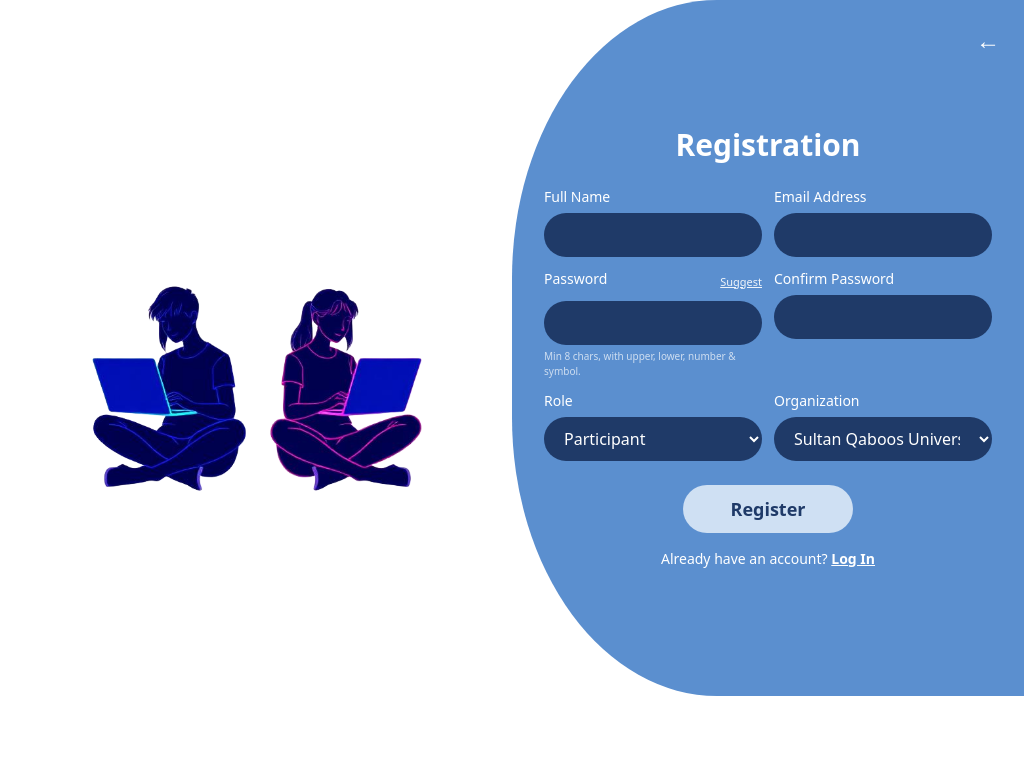
Test: Register page › rejects weak password (no uppercase)
Type "Khadija" into the field below "Full Name".
click(653, 235); type("Khadija")  # box [544, 213, 762, 257]
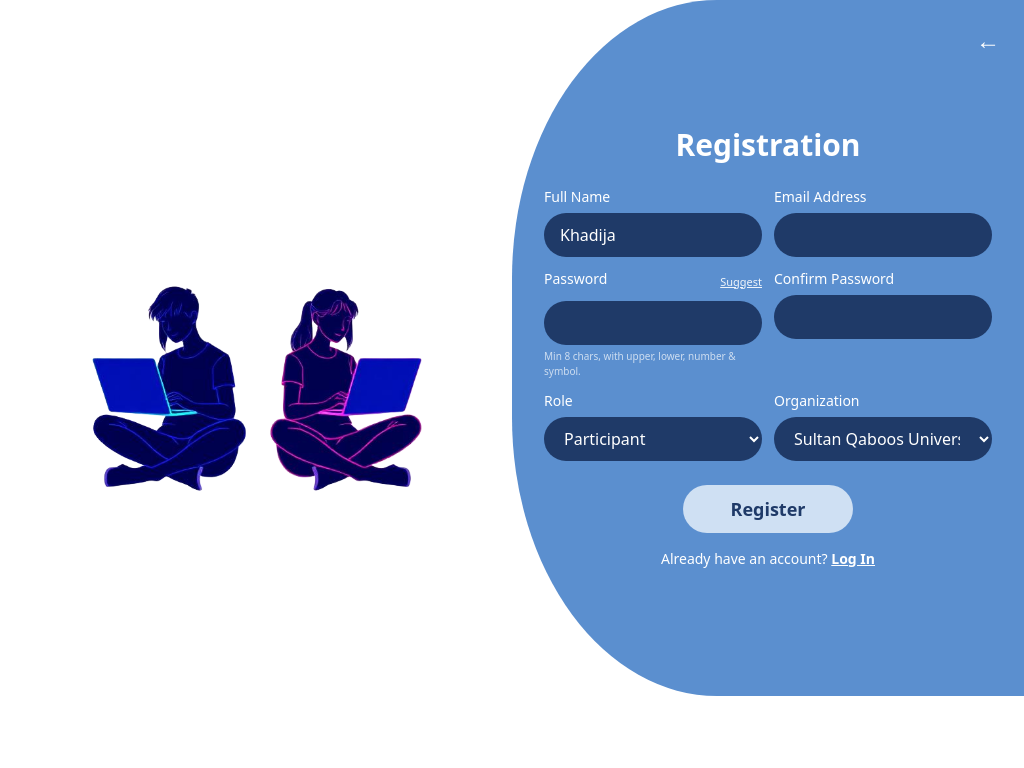
Type "khadija@gmail.com" into the field below "Email Address".
click(883, 235); type("khadija@gmail.com")  # box [774, 213, 992, 257]
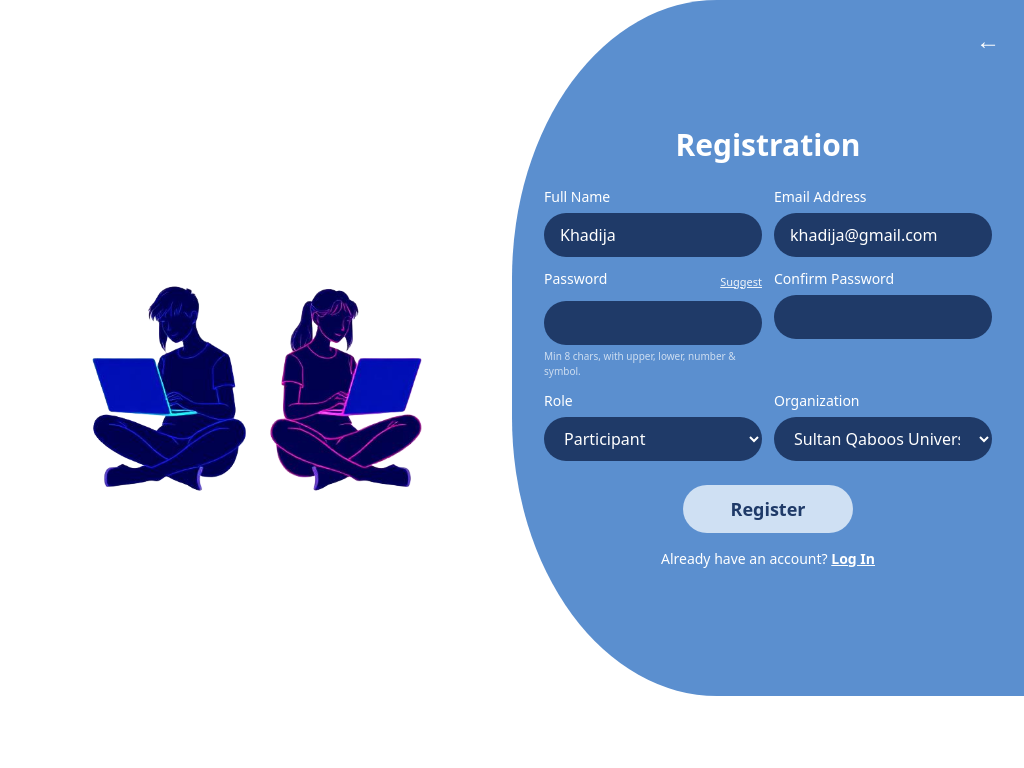
Type "pass@1234" into the 1st password field.
click(653, 323); type("pass@1234")  # box [544, 301, 762, 345]
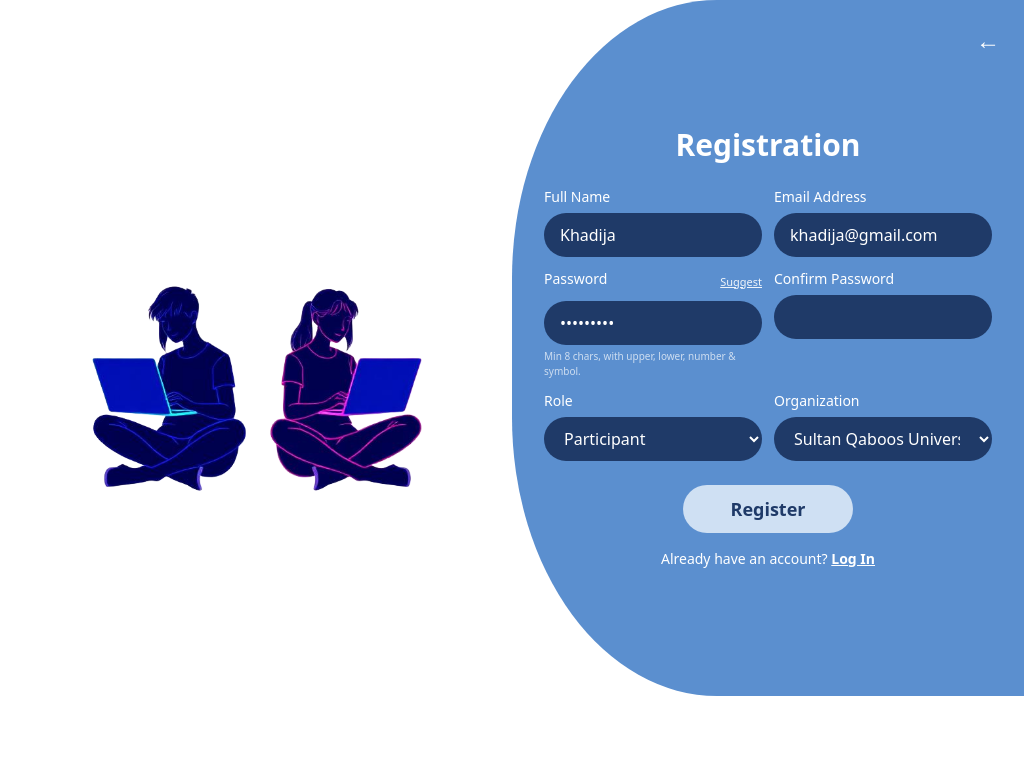
Type "pass@1234" into the password field below "Confirm Password".
click(883, 317); type("pass@1234")  # box [774, 295, 992, 339]
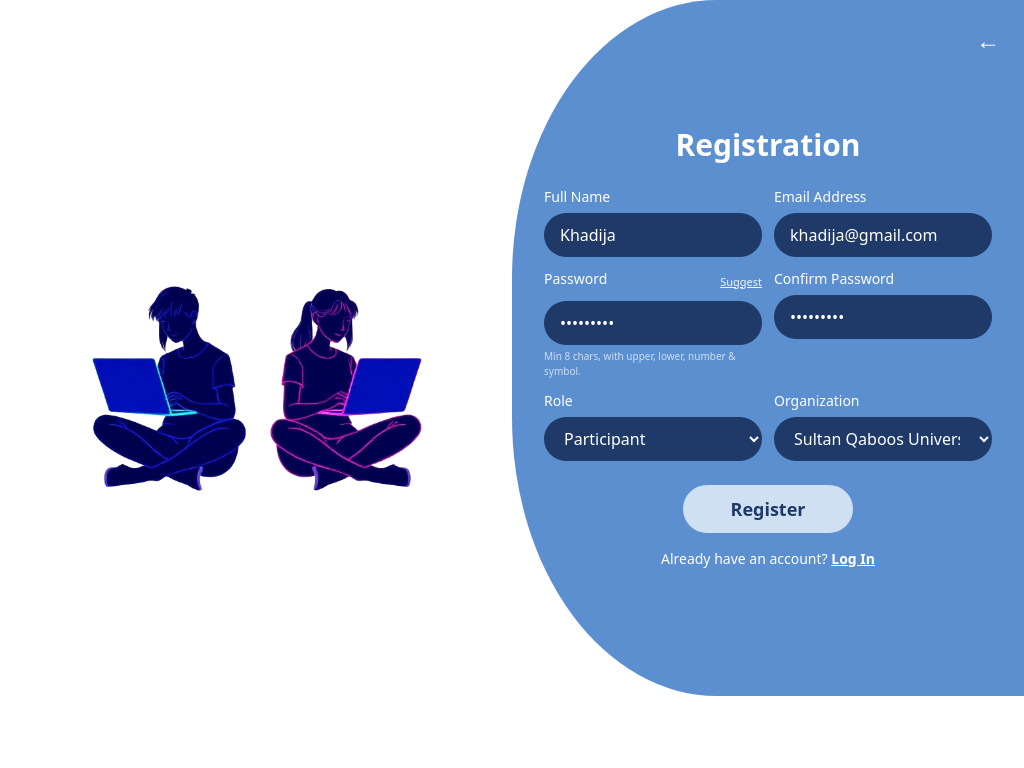
Submit the form, box [544, 103, 992, 593]
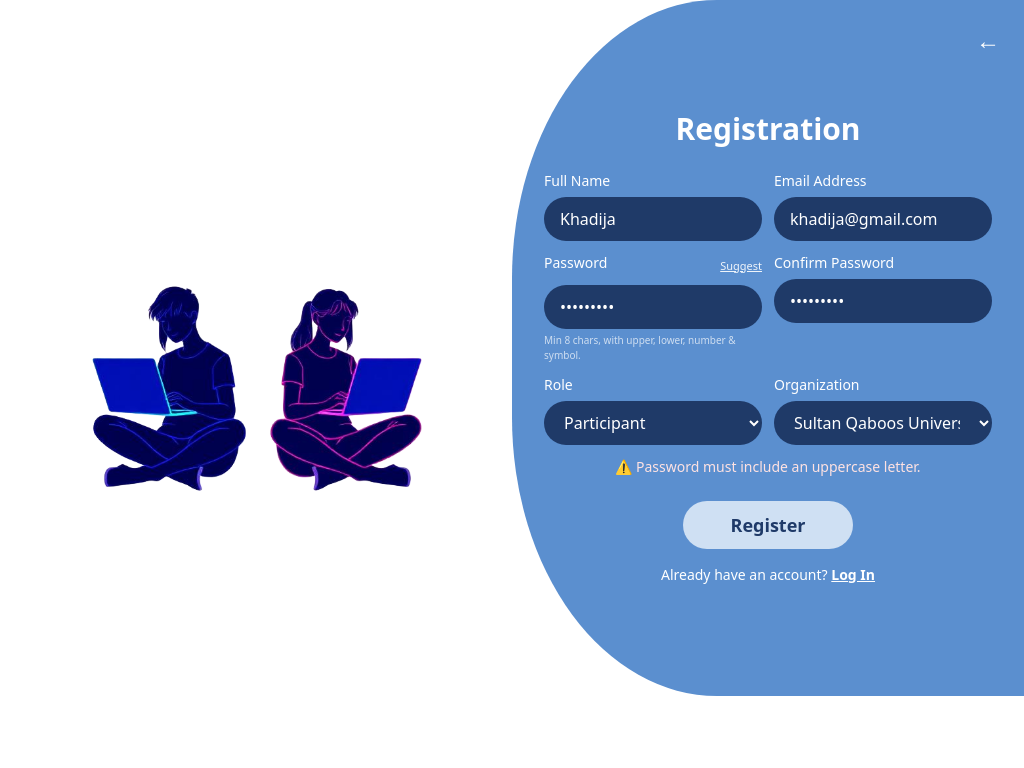
Expected: the text "⚠️ Password must include an uppercase letter." is shown, [615, 457, 921, 476]
